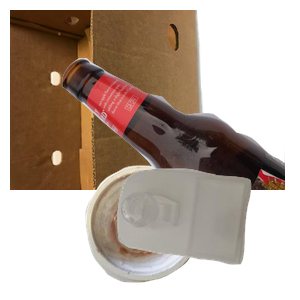cardboard: (10, 10, 211, 190)
glass: (60, 56, 300, 236)
plastic: (115, 166, 300, 300)
trash: (83, 163, 276, 300)
